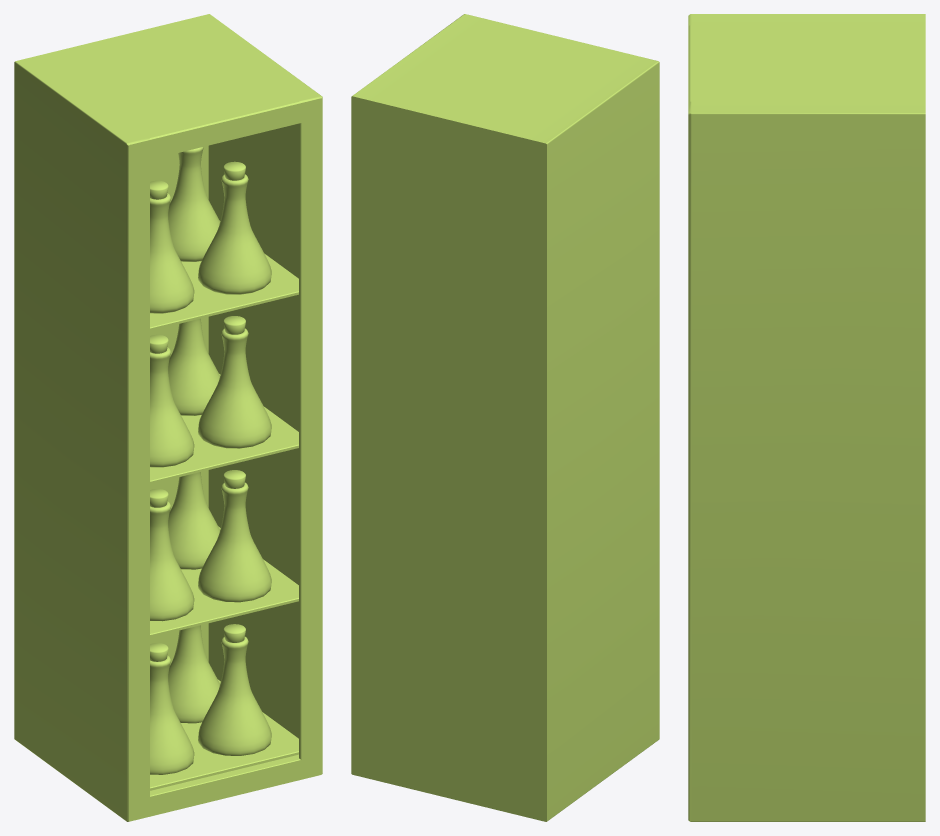
The model's file is shelf_potion3.fbx.
3 views of the same model, side by side, from view 1: azimuth 30°, elevation 25°; view 2: azimuth 150°, elevation 25°; view 3: azimuth 270°, elevation 25° (orthographic). The views are drawn at different scales.
Parts seen in each view (by area): view 1: shelf_potion3; view 2: shelf_potion3; view 3: shelf_potion3.
Part boxes in pixels (x1,y1,x2,y2): shelf_potion3: (14,14,322,821); shelf_potion3: (351,14,659,821); shelf_potion3: (688,14,925,821).
Size of the model in its own units: 99.62 by 330 by 99.95.
